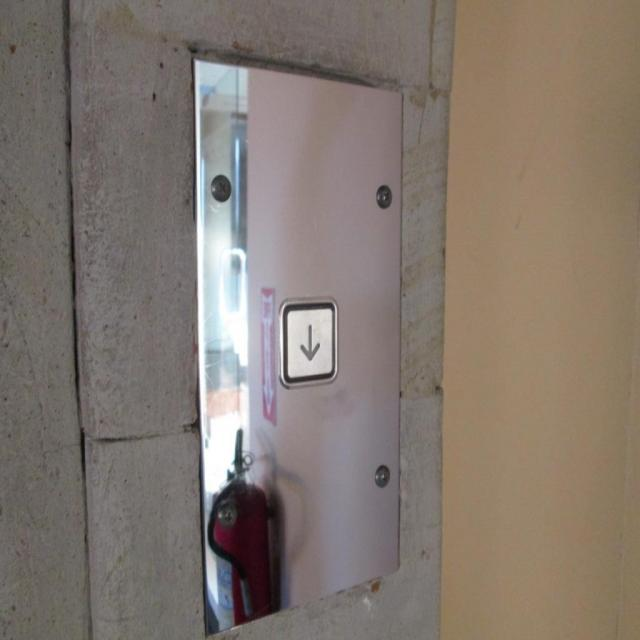down: (276, 295, 338, 389)
